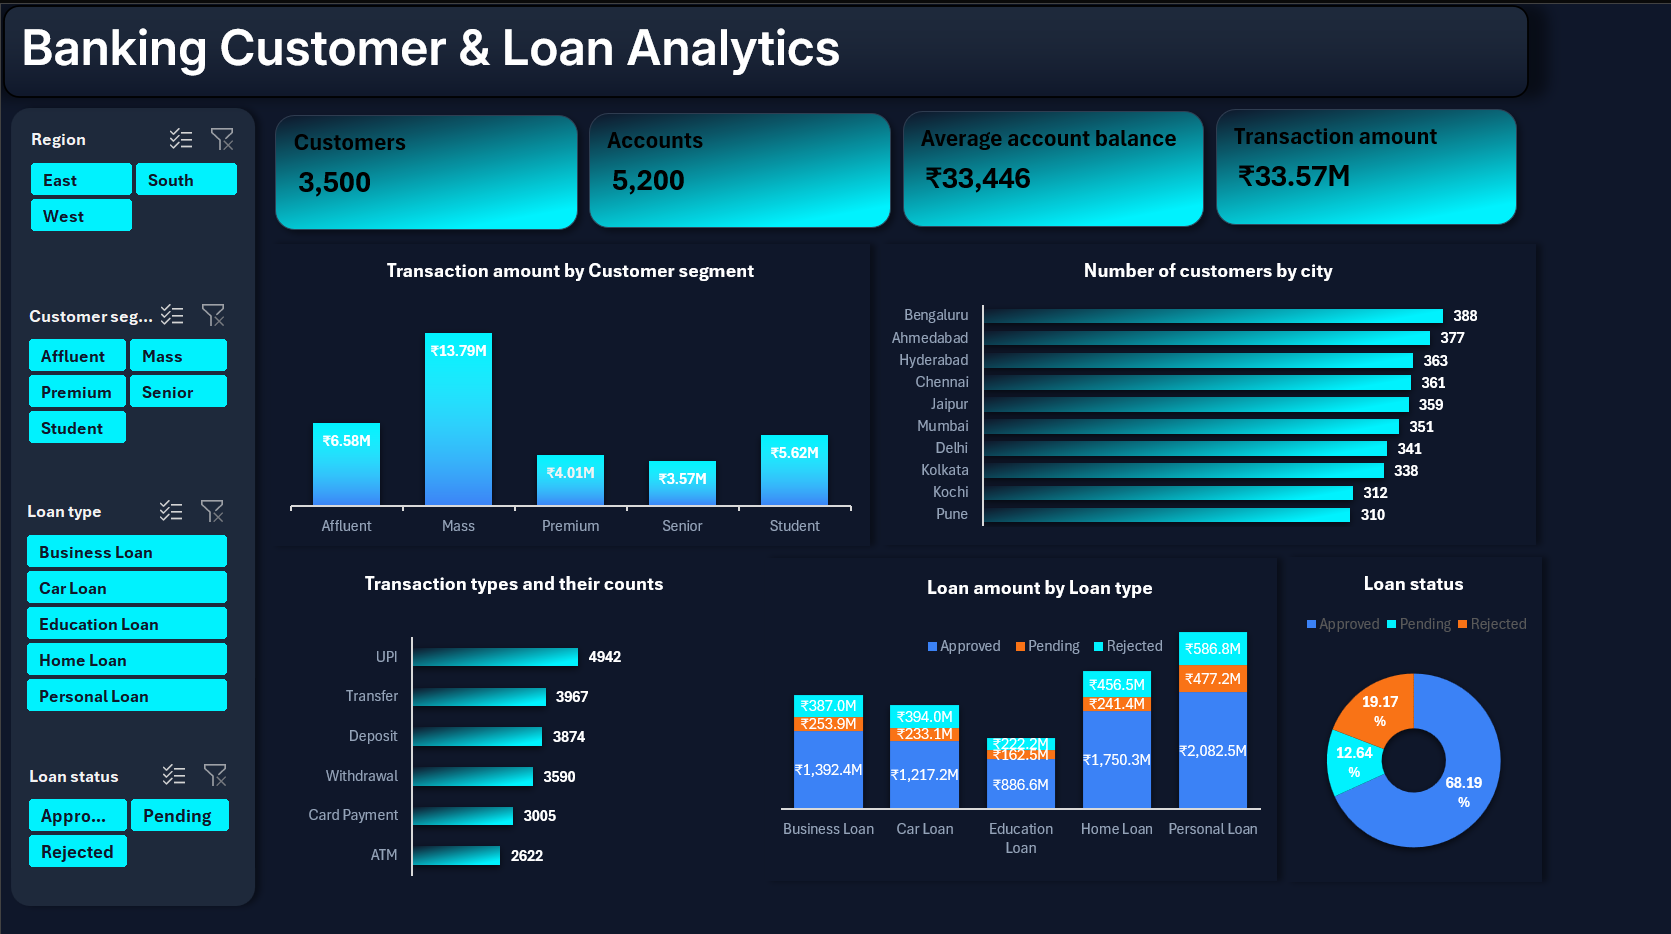

What the dashboard file says about the page in this screenshot:
{"tool":"powerbi","page":{"name":"Overview","canvas":[1280,720],"ordinal":0},"visuals":[{"type":"shape","box":[0,1.5,1279.5,85],"z":0},{"type":"shape","box":[18.2,160.5,245.3,115.1],"z":0,"group":"g3"},{"type":"textbox","box":[18.2,12.1,569.3,74.2],"z":1000},{"type":"shape","box":[269.5,160.5,245.3,115.1],"z":1000,"group":"g5"},{"type":"pageNavigator","box":[613.3,19.7,649.6,50],"z":2000},{"type":"shape","box":[520.9,160.5,245.3,115.1],"z":2000,"group":"g6"},{"type":"group","id":"g1","title":"Group 2","box":[20.2,95.4,557.2,53],"z":3000},{"type":"shape","box":[772.2,160.5,245.3,115.1],"z":3000,"group":"g7"},{"type":"shape","box":[1023.6,160.5,245.3,115.1],"z":4000,"group":"g8"},{"type":"lineChart","title":"Monthly transaction value","fields":{"Y":["_Measures.Total transaction value"],"Category":["Date.Month"]},"box":[18.2,492.1,1244.7,219],"z":4000},{"type":"cardVisual","title":"Total Customers","fields":{"Data":["_Measures.Total Customers"]},"box":[18.2,172,245.3,104],"z":5000,"group":"g3"},{"type":"donutChart","title":"Loan status","fields":{"Category":["Loans.Loan_Status"],"Y":["_Measures.Total loans"]},"box":[848,283.2,414.9,201.4],"z":5000},{"type":"shape","box":[20.2,96.8,230.2,51.6],"z":5500,"group":"g2"},{"type":"shape","box":[259.4,96.9,318,51.5],"z":5500,"group":"g4"},{"type":"slicer","fields":{"Values":["Customers.Customer_Segment"]},"box":[404.7,95.4,165.6,50.2],"z":6000,"group":"g4"},{"type":"slicer","fields":{"Values":["Locations.City"]},"box":[98.9,96.8,151.4,48.5],"z":6000,"group":"g2"},{"type":"cardVisual","fields":{"Data":["_Measures.Total Accounts"]},"box":[270,172,245.3,104.5],"z":6000,"group":"g5"},{"type":"barChart","title":"Top 5 Locations by customers","fields":{"Category":["Locations.City"],"Y":["_Measures.Total customers"]},"box":[18.2,283.2,819.2,201.4],"z":6000},{"type":"group","id":"g2","title":"Group 1","box":[20.2,96.8,230.2,51.6],"z":7000,"group":"g1"},{"type":"group","id":"g3","title":"Group 3","box":[18.2,160.5,245.3,115.5],"z":7000},{"type":"cardVisual","fields":{"Data":["_Measures.Total transactions"]},"box":[514.8,172,252.9,104.5],"z":7000,"group":"g6"},{"type":"group","id":"g4","title":"Group 1","box":[259.4,95.4,318,53],"z":8000,"group":"g1"},{"type":"textbox","box":[270.6,105,145.9,31.6],"z":8000,"group":"g4"},{"type":"textbox","box":[33,105.9,76.8,31.9],"z":8000,"group":"g2"},{"type":"group","id":"g5","title":"Group 4","box":[269.5,160.5,245.8,116],"z":8000},{"type":"cardVisual","fields":{"Data":["_Measures.Total Loan amount"]},"box":[772.2,172,245.3,104.5],"z":8000,"group":"g7"},{"type":"group","id":"g6","title":"Group 5","box":[514.8,160.5,252.9,116],"z":9000},{"type":"cardVisual","fields":{"Data":["_Measures.Average Account balance"]},"box":[1023.6,172,245.3,104.5],"z":9000,"group":"g8"},{"type":"group","id":"g7","title":"Group 6","box":[772.2,160.5,245.3,116],"z":10000},{"type":"group","id":"g8","title":"Group 7","box":[1023.6,160.5,245.3,116],"z":11000}]}

Visuals, with their boxes in screenshot pixels (x1, y1, x2, y2), scaled from the page's 1280x720 canvas onto the 1671x934 screenshot:
shape: [0,2,1670,112]
shape: [24,208,344,358]
textbox: [24,16,767,112]
shape: [352,208,672,358]
pageNavigator: [801,26,1649,90]
shape: [680,208,1000,358]
"Group 2" group: [26,124,754,193]
shape: [1008,208,1328,358]
shape: [1336,208,1657,358]
"Monthly transaction value" lineChart: [24,638,1649,922]
"Total Customers" cardVisual: [24,223,344,358]
"Loan status" donutChart: [1107,367,1649,629]
shape: [26,126,327,193]
shape: [339,126,754,193]
slicer - Customers.Customer_Segment: [528,124,745,189]
slicer - Locations.City: [129,126,327,188]
cardVisual - _Measures.Total Accounts: [352,223,673,359]
"Top 5 Locations by customers" barChart: [24,367,1093,629]
"Group 1" group: [26,126,327,193]
"Group 3" group: [24,208,344,358]
cardVisual - _Measures.Total transactions: [672,223,1002,359]
"Group 1" group: [339,124,754,193]
textbox: [353,136,544,177]
textbox: [43,137,143,179]
"Group 4" group: [352,208,673,359]
cardVisual - _Measures.Total Loan amount: [1008,223,1328,359]
"Group 5" group: [672,208,1002,359]
cardVisual - _Measures.Average Account balance: [1336,223,1657,359]
"Group 6" group: [1008,208,1328,359]
"Group 7" group: [1336,208,1657,359]
